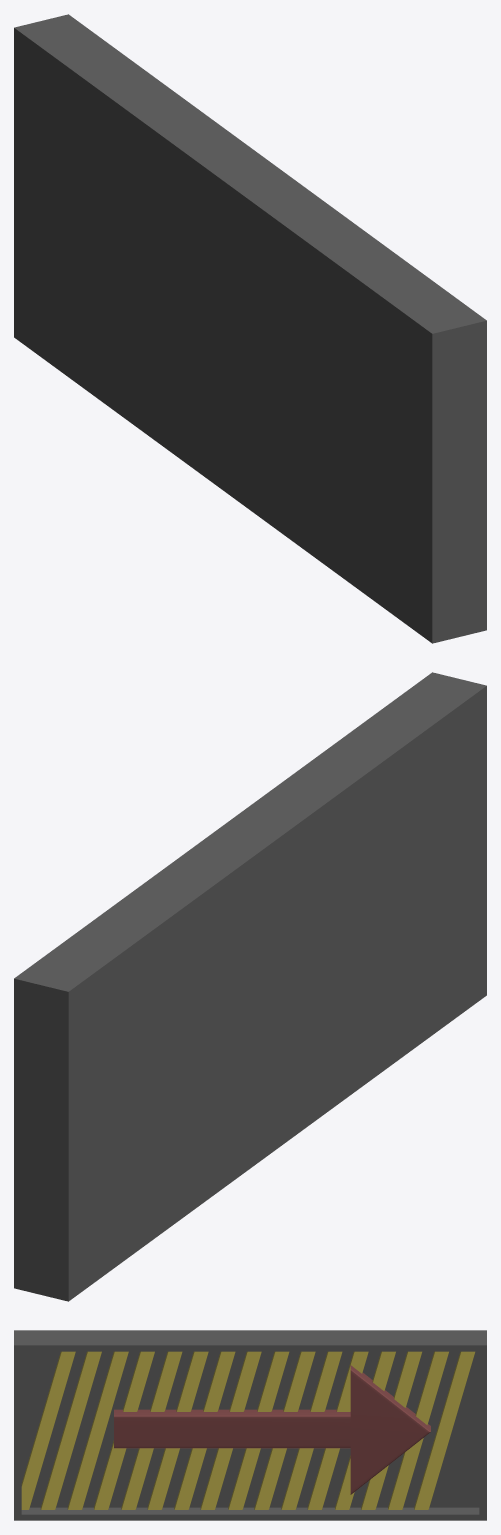
File: Arrow.fbx
3 renders of one model, top to bottom at view 1: azimuth 30°, elevation 25°; view 2: azimuth 150°, elevation 25°; view 3: azimuth 270°, elevation 25°, orthographic. The views are drawn at different scales.
Visible parts, largest first — view 1: polySurface9; view 2: polySurface9; view 3: polySurface9.
Boxes of the visible parts, bbox=[...] form: polySurface9: bbox=[14, 14, 486, 643]; polySurface9: bbox=[14, 672, 486, 1301]; polySurface9: bbox=[14, 1330, 486, 1520].
Size of the model in its own units: 19.26 by 104 by 256.
